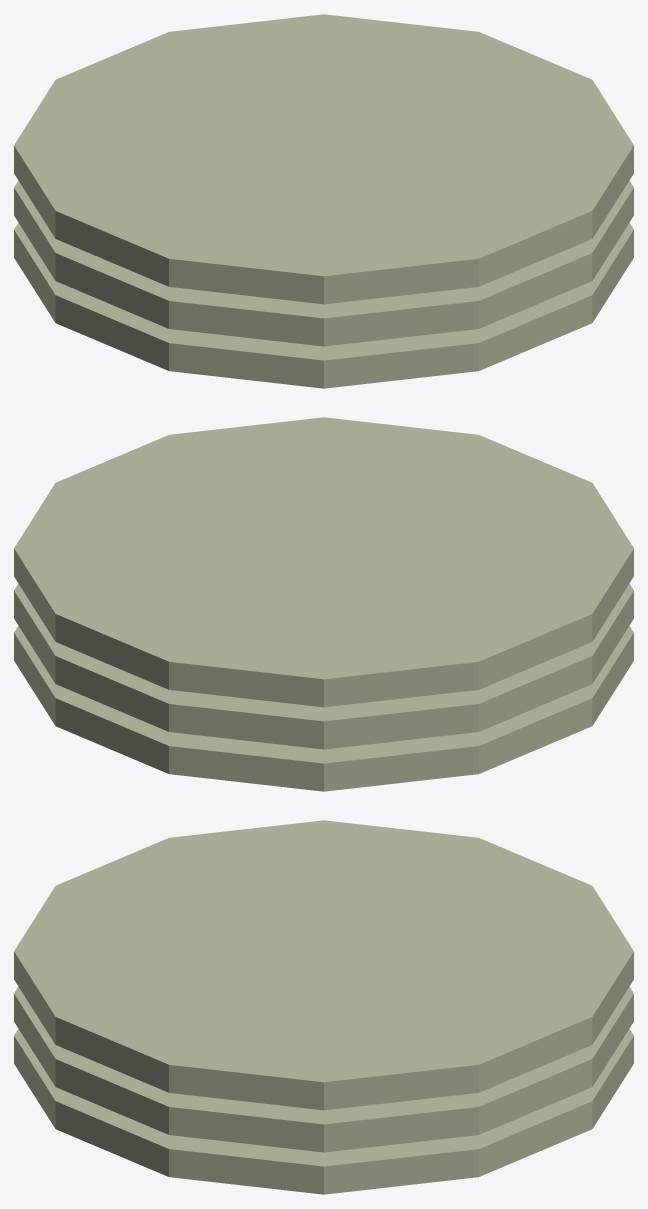
Rendered from dishes.gltf.
The picture shows the model from 3 angles, top to bottom: view 1: azimuth 30°, elevation 25°; view 2: azimuth 150°, elevation 25°; view 3: azimuth 270°, elevation 25°; orthographic projection.
Visible parts, largest first — view 1: plate (×3); view 2: plate (×3); view 3: plate (×3).
Part boxes in pixels (x1,y1,x2,y2): plate (×3): (14,14,633,388); plate (×3): (14,417,633,791); plate (×3): (14,820,633,1194).
Size of the model in its own units: 0.5 by 0.1 by 0.5.
1 material, 1 textured.
